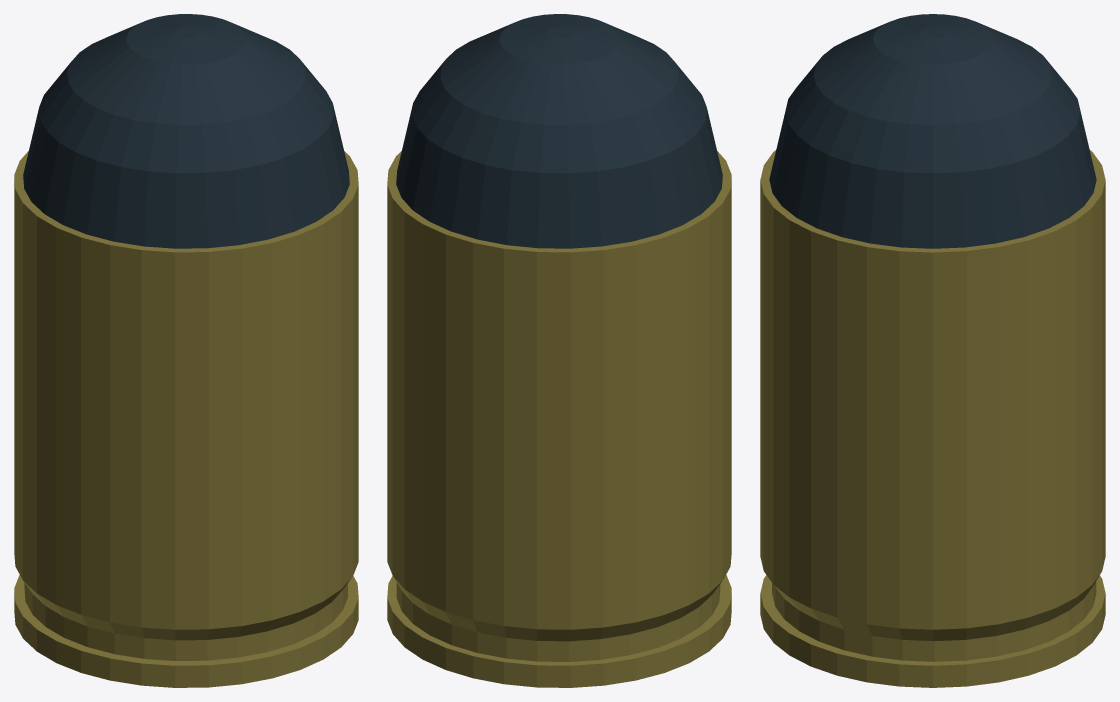
The model's file is Pistolbullet.fbx.
3 views of the same model, side by side, from view 1: azimuth 30°, elevation 25°; view 2: azimuth 150°, elevation 25°; view 3: azimuth 270°, elevation 25° (orthographic).
Parts seen in each view (by area): view 1: Walec, Walec.001; view 2: Walec, Walec.001; view 3: Walec, Walec.001.
Boxes of the visible parts, left/top/right/bottom form: Walec: left=14, top=151, right=358, bottom=687; Walec.001: left=23, top=14, right=349, bottom=248; Walec: left=387, top=151, right=731, bottom=687; Walec.001: left=396, top=14, right=722, bottom=248; Walec: left=760, top=150, right=1105, bottom=687; Walec.001: left=769, top=14, right=1096, bottom=248.
Bounding box in the file's own units: 132 × 246 × 132.
